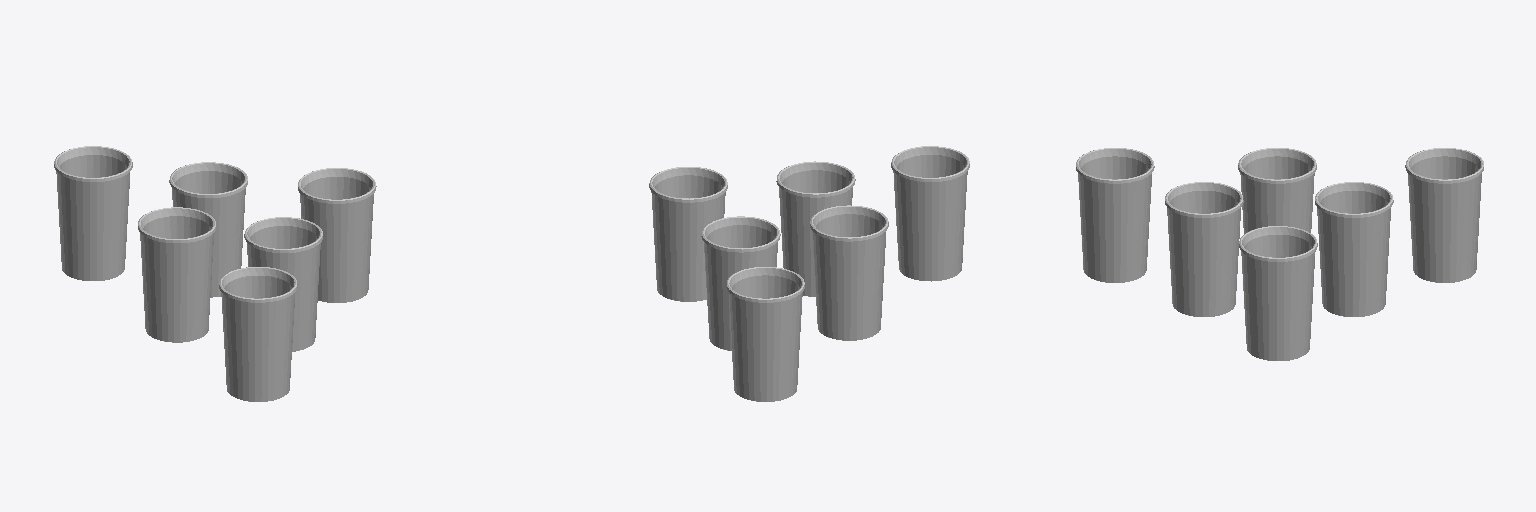
Rendered from cup_mul.obj.
3 views of the same model, side by side, from view 1: azimuth 30°, elevation 25°; view 2: azimuth 150°, elevation 25°; view 3: azimuth 270°, elevation 25° (orthographic).
Visible parts, largest first — view 1: Plastic_Cup_plastic_cup_Lowpoly.004, Plastic_Cup_plastic_cup_Lowpoly.005, Plastic_Cup_plastic_cup_Lowpoly.003, Plastic_Cup_plastic_cup_Lowpoly.001, Plastic_Cup_plastic_cup_Lowpoly, Plastic_Cup_plastic_cup_Lowpoly.002; view 2: Plastic_Cup_plastic_cup_Lowpoly.005, Plastic_Cup_plastic_cup_Lowpoly.004, Plastic_Cup_plastic_cup_Lowpoly.003, Plastic_Cup_plastic_cup_Lowpoly.001, Plastic_Cup_plastic_cup_Lowpoly, Plastic_Cup_plastic_cup_Lowpoly.002; view 3: Plastic_Cup_plastic_cup_Lowpoly.003, Plastic_Cup_plastic_cup_Lowpoly.005, Plastic_Cup_plastic_cup_Lowpoly.001, Plastic_Cup_plastic_cup_Lowpoly, Plastic_Cup_plastic_cup_Lowpoly.002, Plastic_Cup_plastic_cup_Lowpoly.004.
Boxes of the visible parts, x1=… form: Plastic_Cup_plastic_cup_Lowpoly.004: x1=138, y1=207, x2=216, y2=342; Plastic_Cup_plastic_cup_Lowpoly.005: x1=219, y1=267, x2=297, y2=401; Plastic_Cup_plastic_cup_Lowpoly.003: x1=54, y1=146, x2=132, y2=280; Plastic_Cup_plastic_cup_Lowpoly.001: x1=298, y1=168, x2=376, y2=302; Plastic_Cup_plastic_cup_Lowpoly: x1=244, y1=217, x2=322, y2=351; Plastic_Cup_plastic_cup_Lowpoly.002: x1=169, y1=162, x2=247, y2=297; Plastic_Cup_plastic_cup_Lowpoly.005: x1=891, y1=146, x2=969, y2=281; Plastic_Cup_plastic_cup_Lowpoly.004: x1=810, y1=205, x2=888, y2=340; Plastic_Cup_plastic_cup_Lowpoly.003: x1=726, y1=267, x2=804, y2=401; Plastic_Cup_plastic_cup_Lowpoly.001: x1=649, y1=167, x2=727, y2=301; Plastic_Cup_plastic_cup_Lowpoly: x1=776, y1=161, x2=855, y2=296; Plastic_Cup_plastic_cup_Lowpoly.002: x1=701, y1=216, x2=780, y2=350; Plastic_Cup_plastic_cup_Lowpoly.003: x1=1405, y1=148, x2=1483, y2=282; Plastic_Cup_plastic_cup_Lowpoly.005: x1=1076, y1=148, x2=1154, y2=282; Plastic_Cup_plastic_cup_Lowpoly.001: x1=1239, y1=226, x2=1317, y2=360; Plastic_Cup_plastic_cup_Lowpoly: x1=1165, y1=182, x2=1243, y2=316; Plastic_Cup_plastic_cup_Lowpoly.002: x1=1315, y1=182, x2=1393, y2=316; Plastic_Cup_plastic_cup_Lowpoly.004: x1=1238, y1=148, x2=1316, y2=233.
Size of the model in its own units: 41.11 by 18.29 by 63.62.